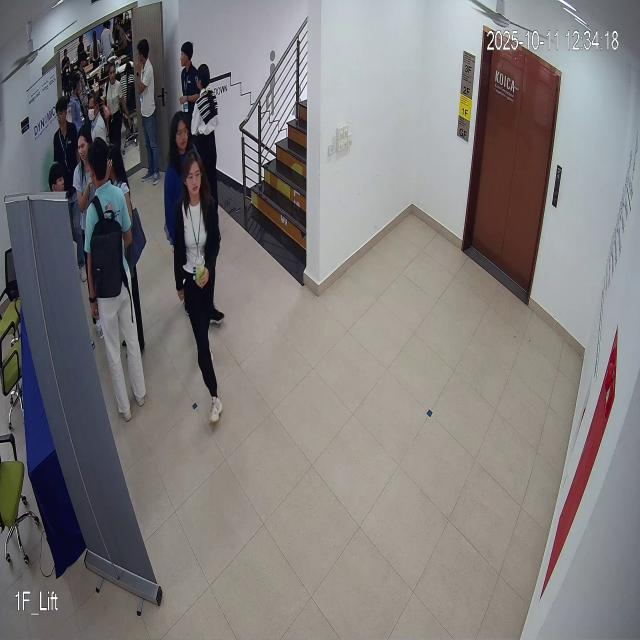face: (183, 151, 205, 203), (172, 111, 190, 156)
